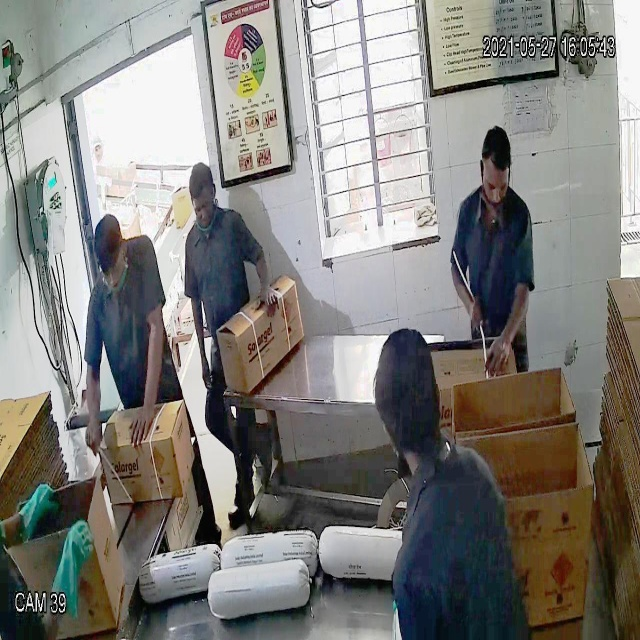Sin_gafas: (477, 165, 514, 203)
